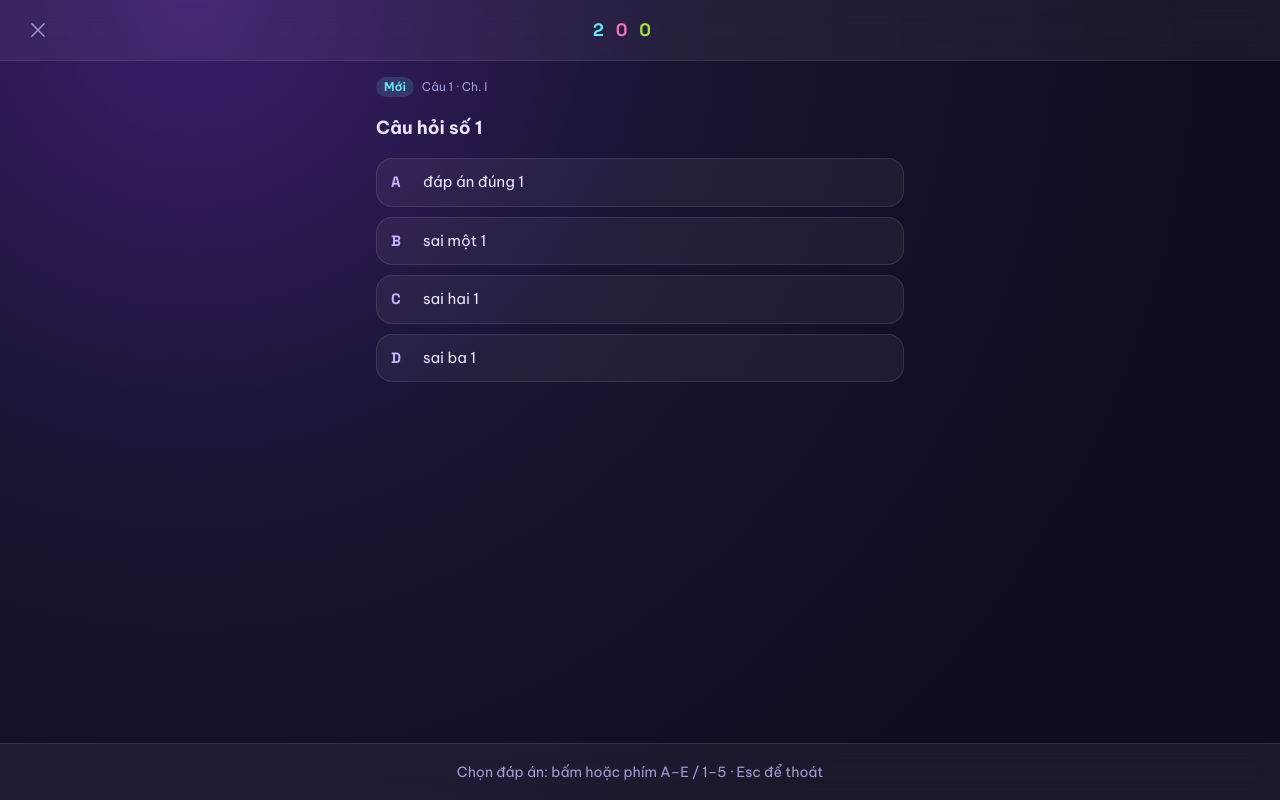
Test: học một thẻ: chọn đáp án → giải thích → chấm → sang thẻ kế
expect the heading "Câu hỏi số 1" is shown: met, box [376,116,482,139]
Click the button "A đáp án đúng 1": (474, 182) [376,158,904,207]
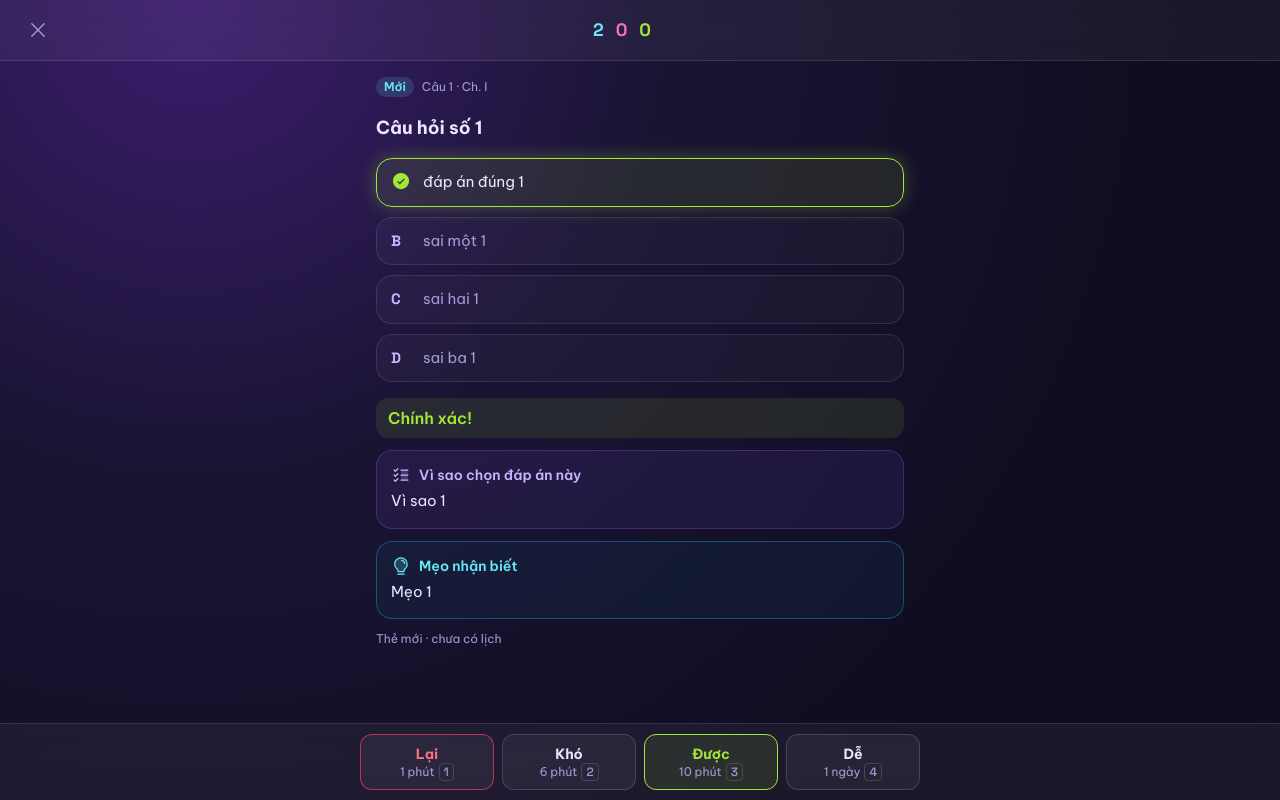
expect the text "Chính xác!" is shown: met, box [376,398,904,438]
expect the text "Vì sao 1" is shown: met, box [391,491,446,510]
expect the text "Mẹo 1" is shown: met, box [391,582,432,601]
Click the button "Được 10 phút3": (711, 762) [644,734,778,790]
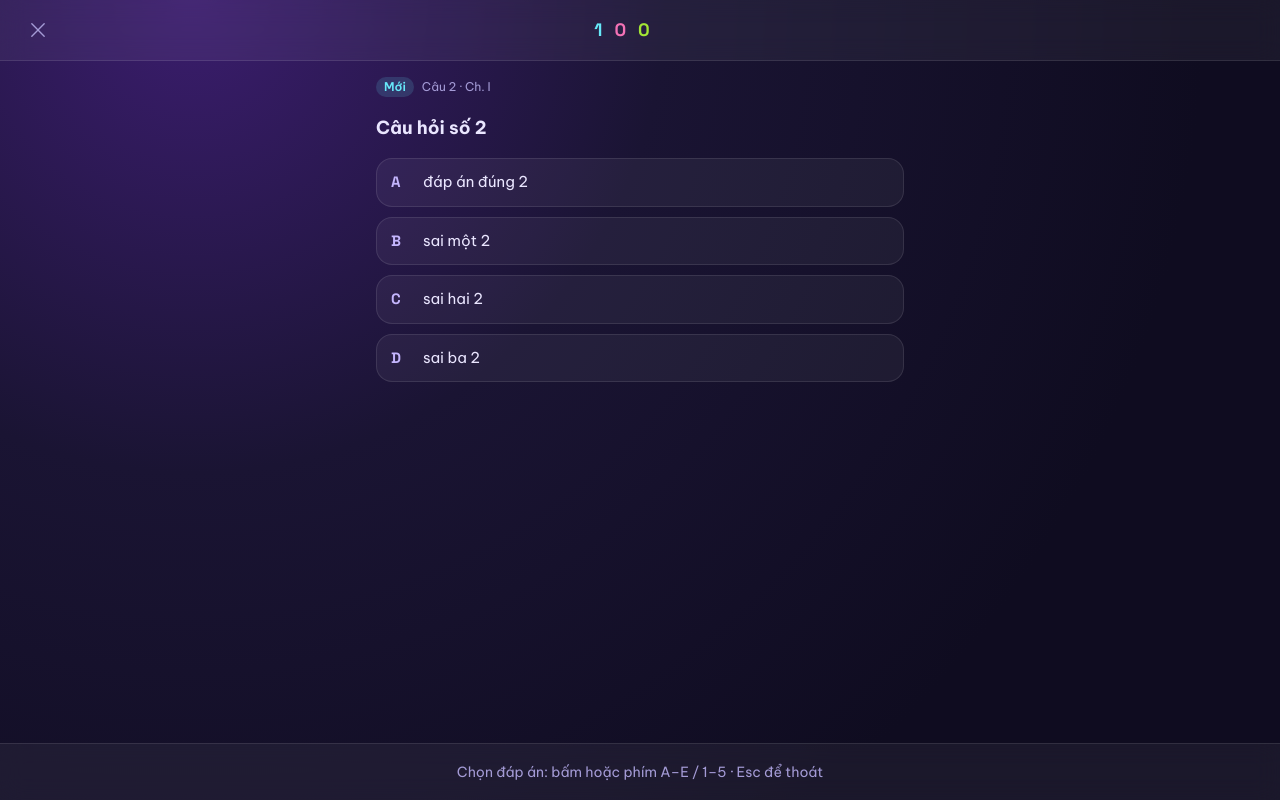
expect the heading "Câu hỏi số 2" is shown: met, box [376,116,487,139]
